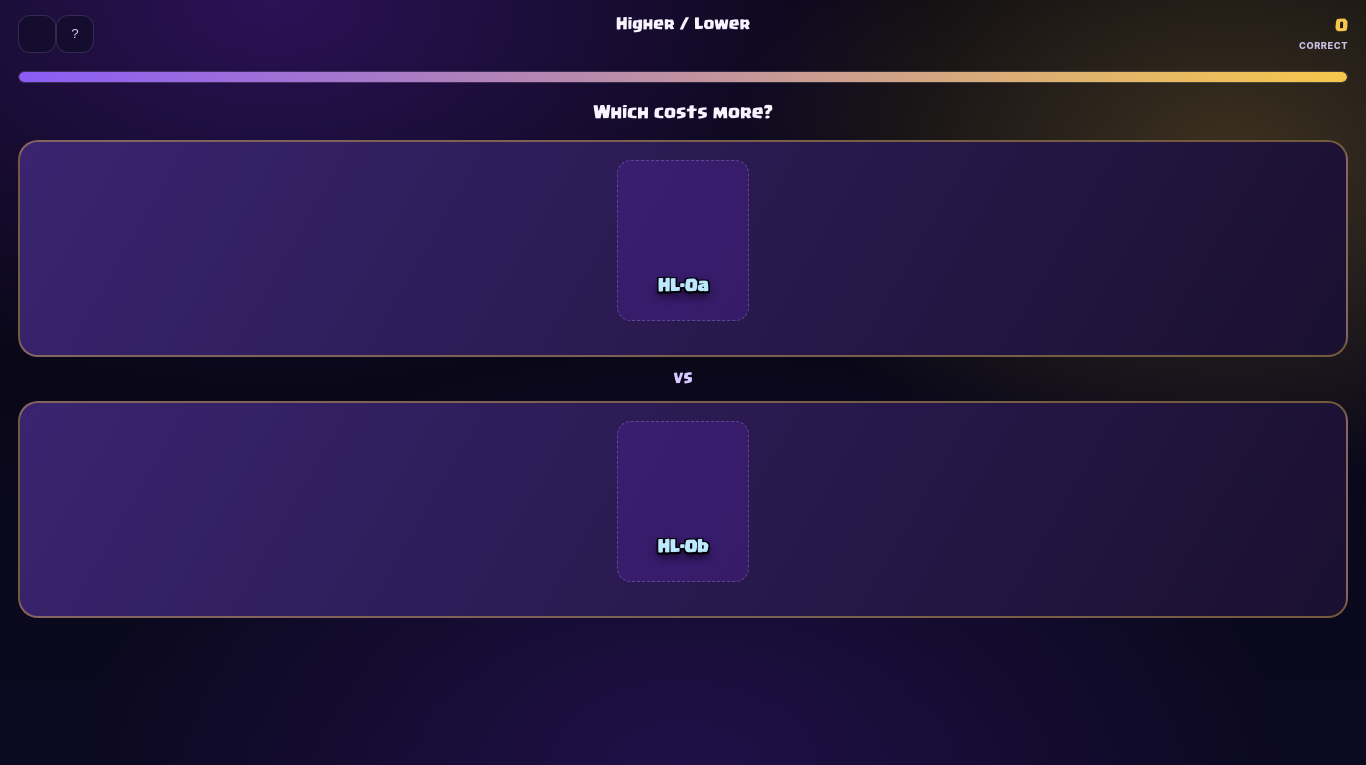
Scenario: Higher / Lower — gameplay › reports the standing record as the previous best, never the run just played
The width and height of the screenshot is (1366, 765).
Click the button "HL-0a" at (98, 249), box [18,140,1348,357]
Wait 800 ms
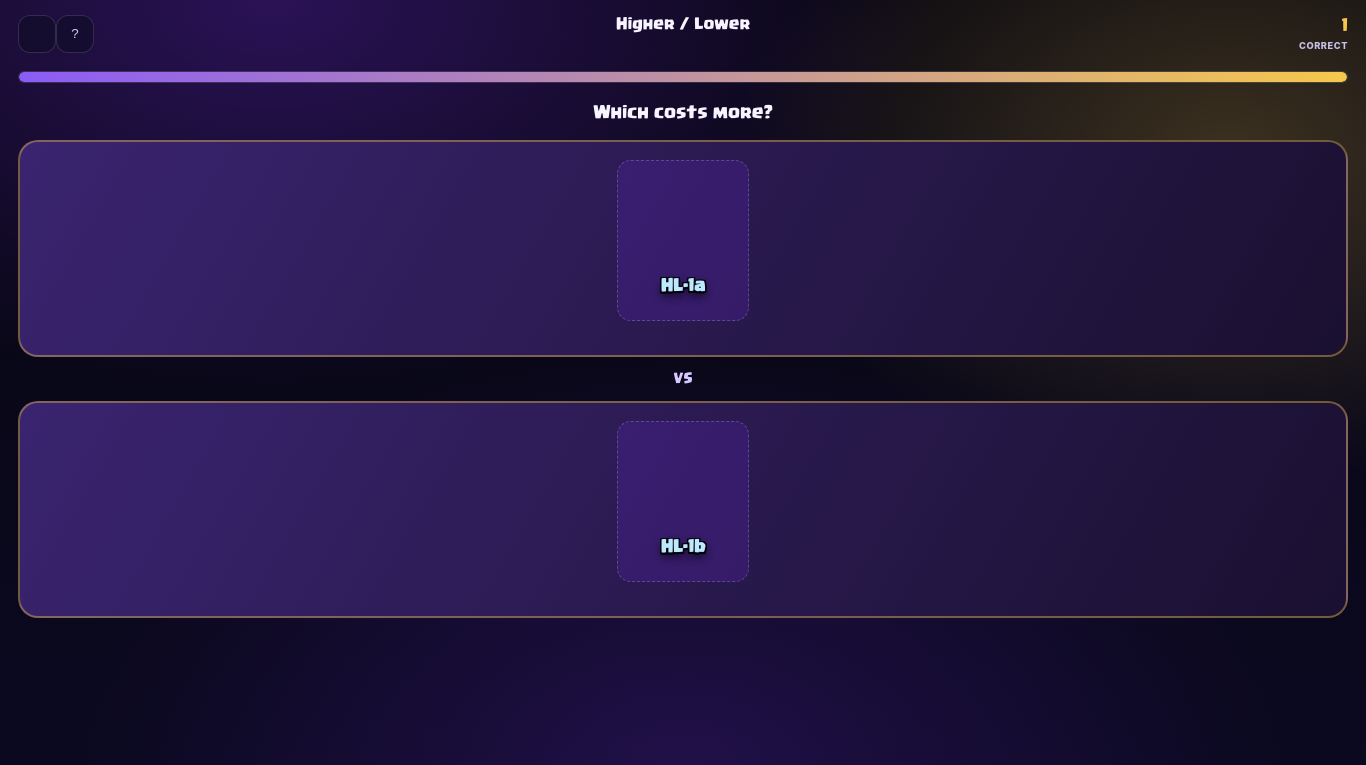
Click the button "HL-1b" at (98, 510), box [18,402,1348,619]
Wait 1500 ms
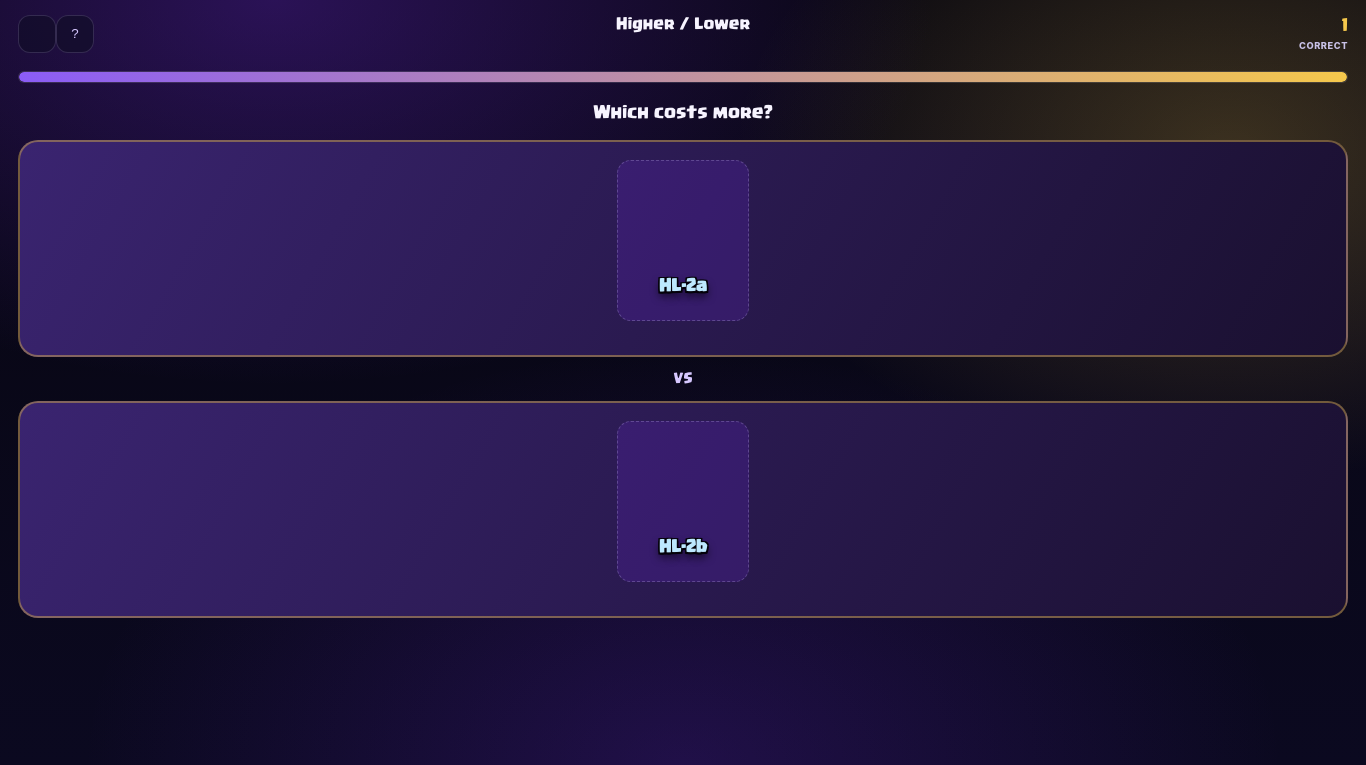
Click the button "HL-2b" at (98, 510), box [18,402,1348,619]
Wait 1500 ms
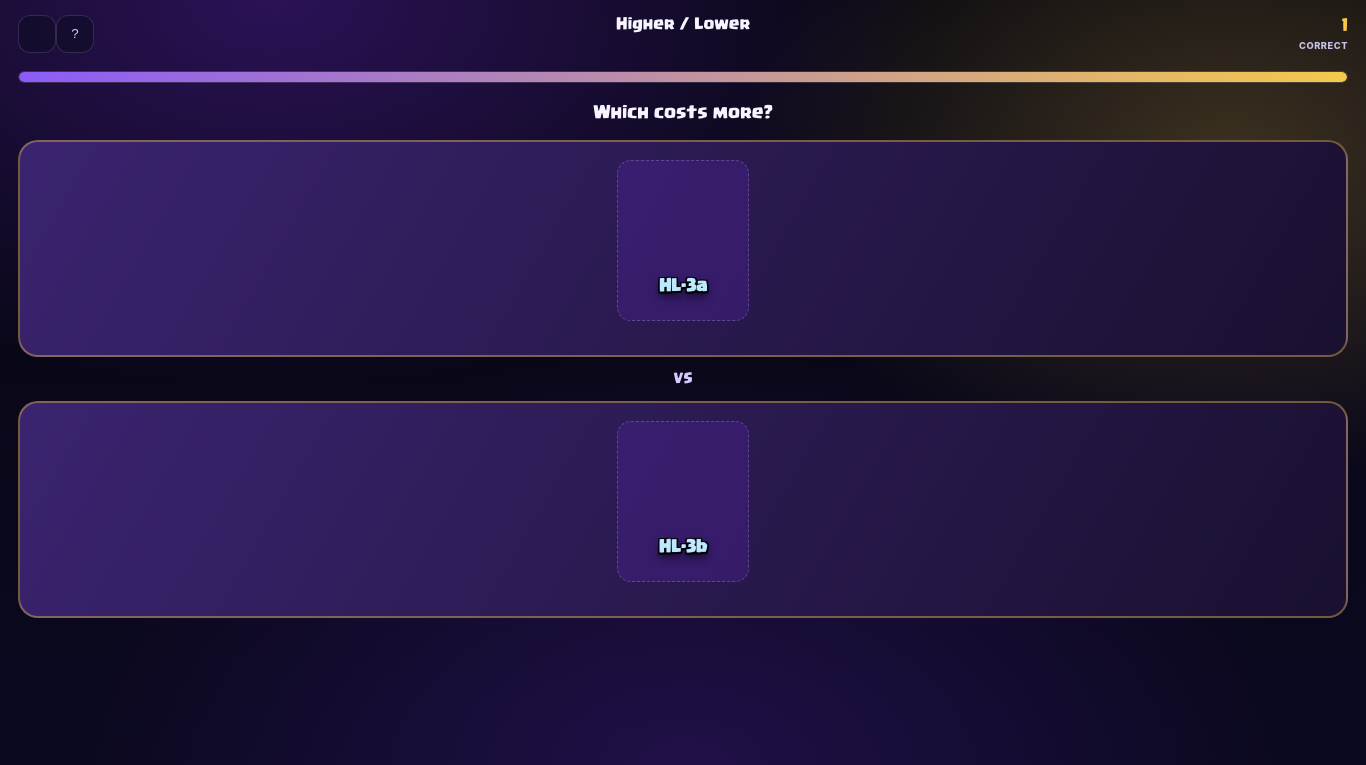
Click the button "HL-3b" at (98, 510), box [18,402,1348,619]
Wait 1500 ms
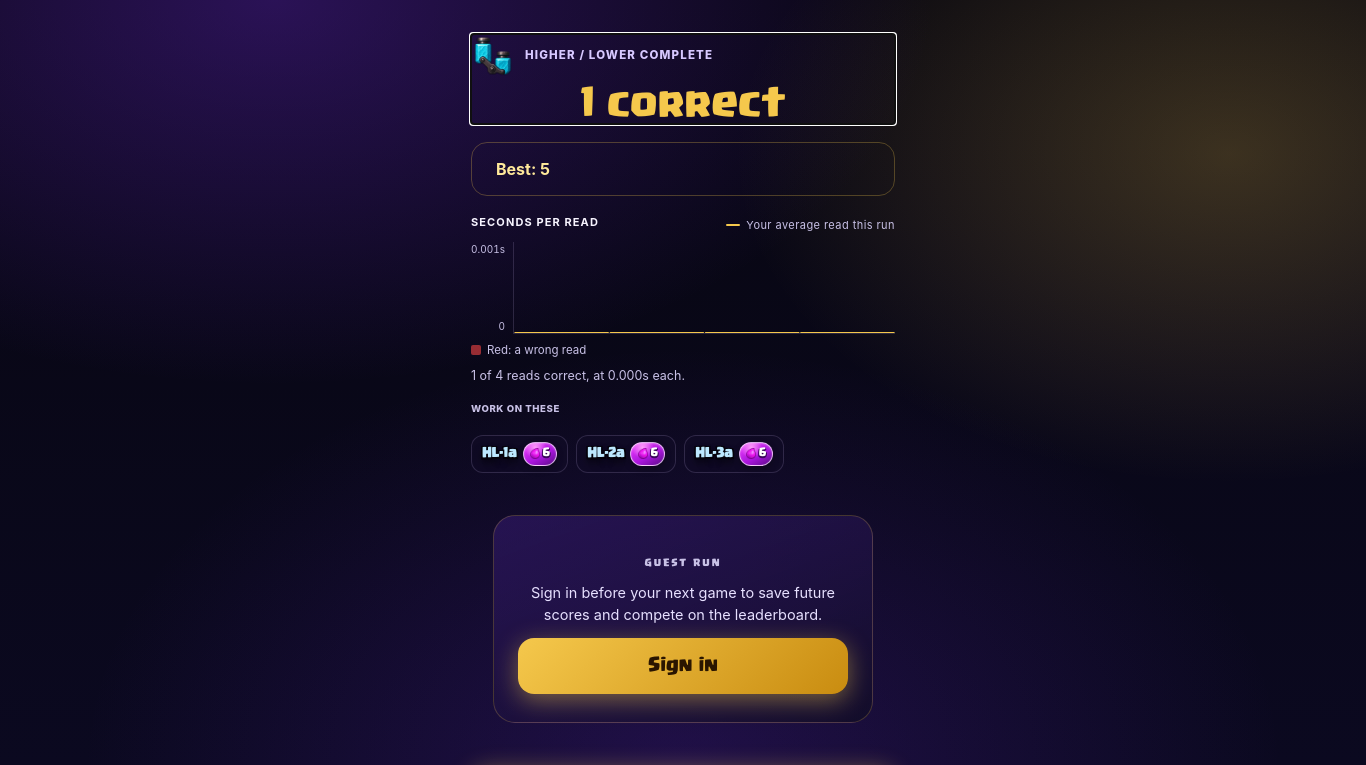
Check: the text with class "ed-sum__headline" reads "1 correct", box [580,85,786,124]
Check: the text "Best: 5" is shown, box [496,159,550,179]
